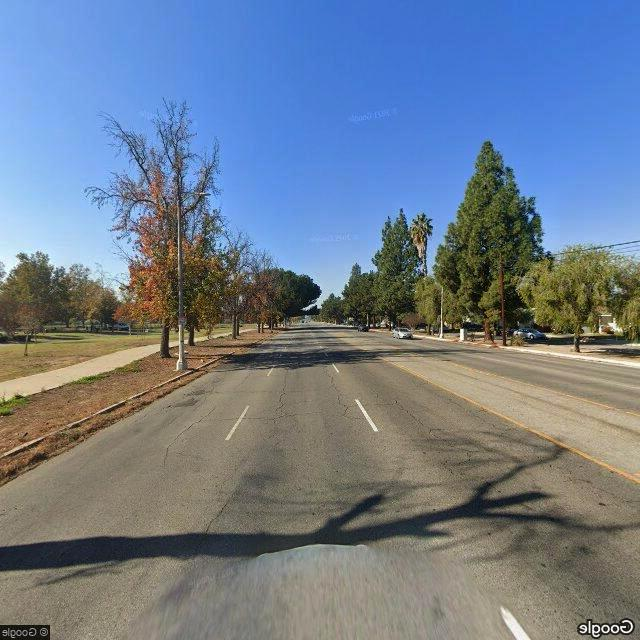pothole: (379, 391, 487, 475), (160, 403, 218, 465), (321, 352, 358, 422), (202, 495, 236, 535), (272, 368, 295, 421)
